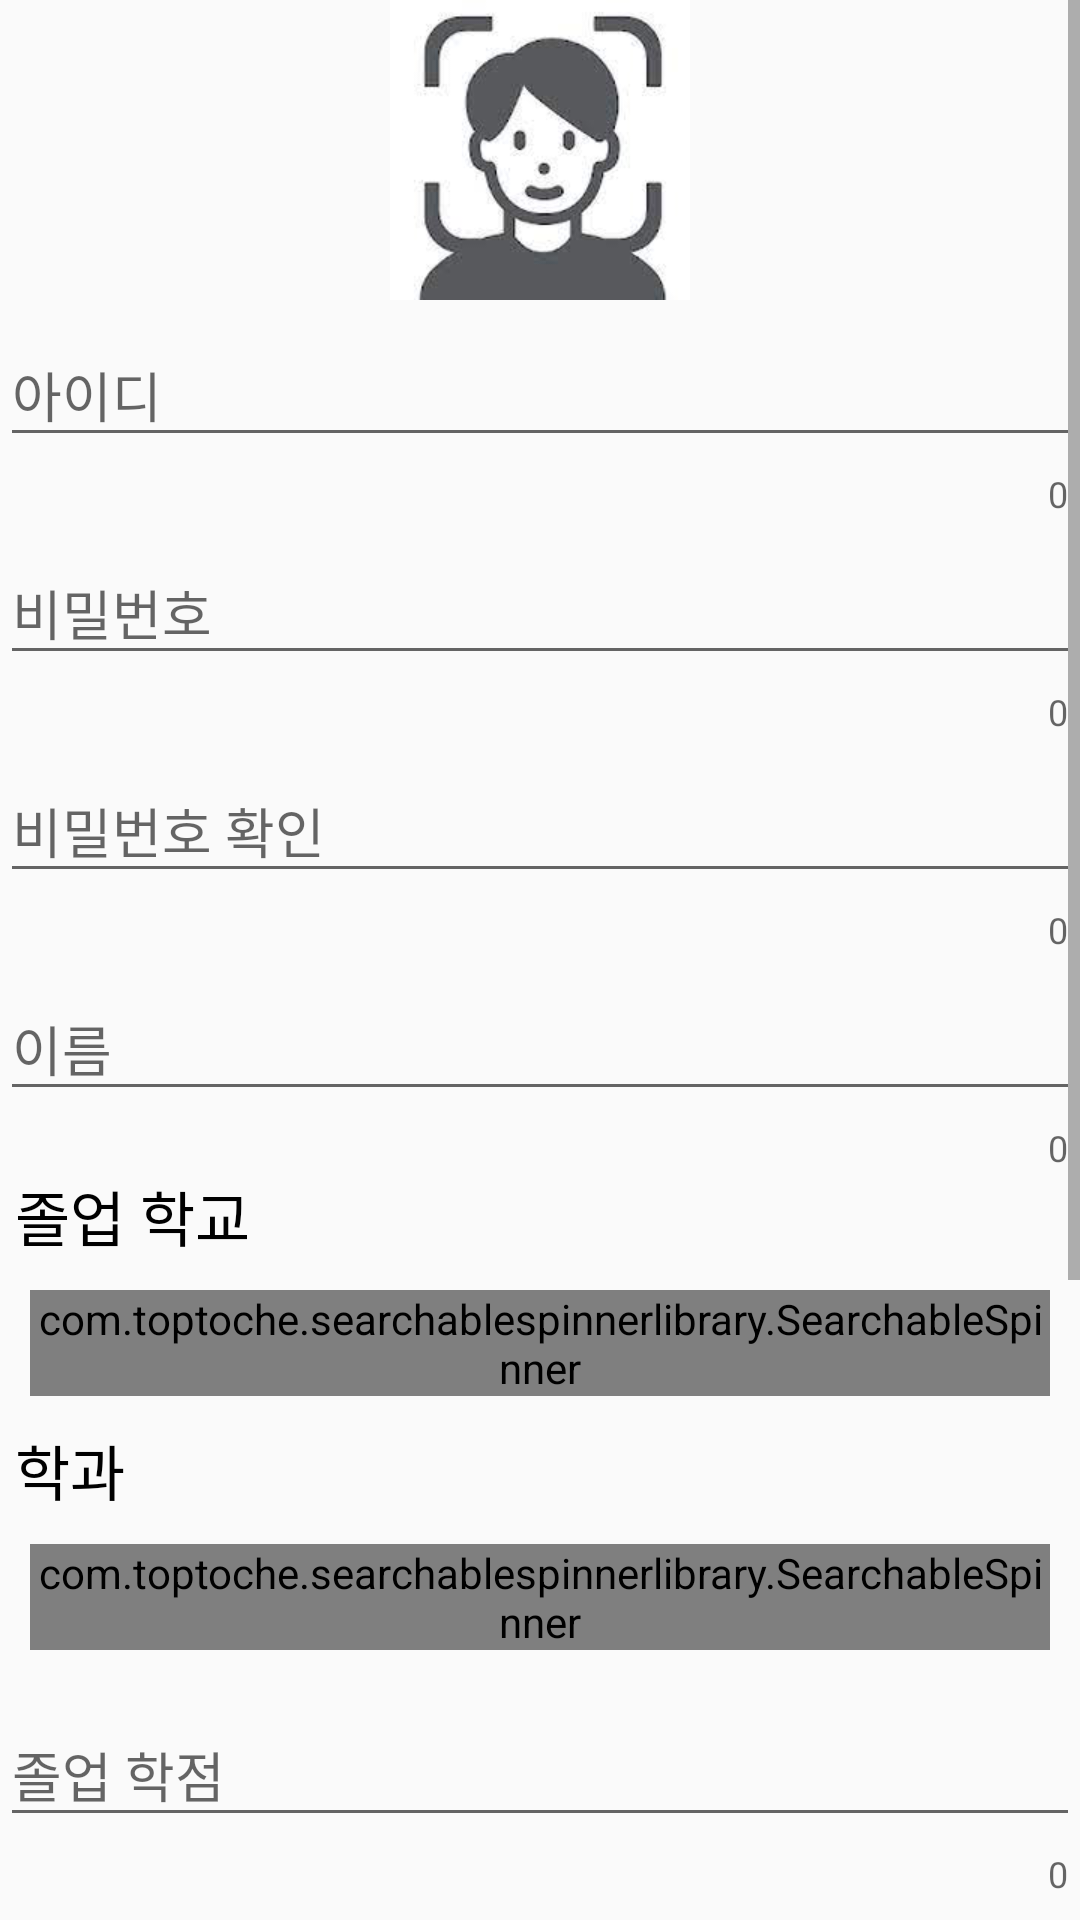

Icons on this 1080x1920 Android screen, each with the point to tap as (x,y):
profileimg: (542,157)
